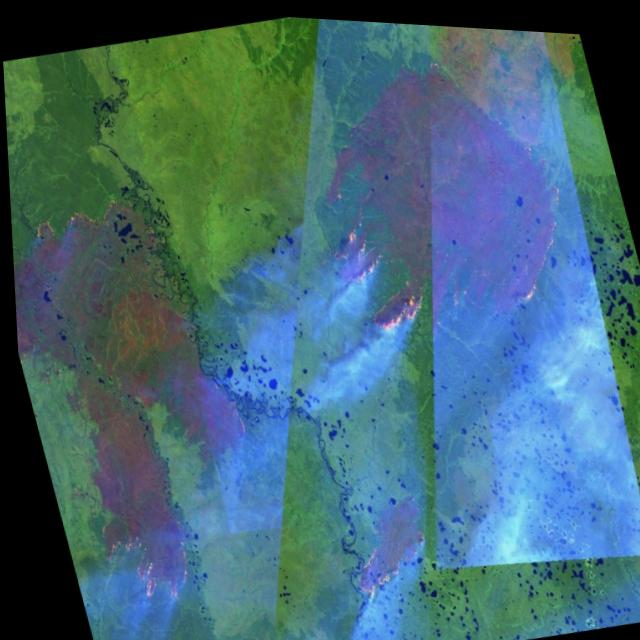fire: (319, 202, 430, 345), (85, 509, 205, 628), (18, 183, 131, 258), (335, 529, 414, 611)
